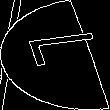L_E: (9, 35, 101, 75)
